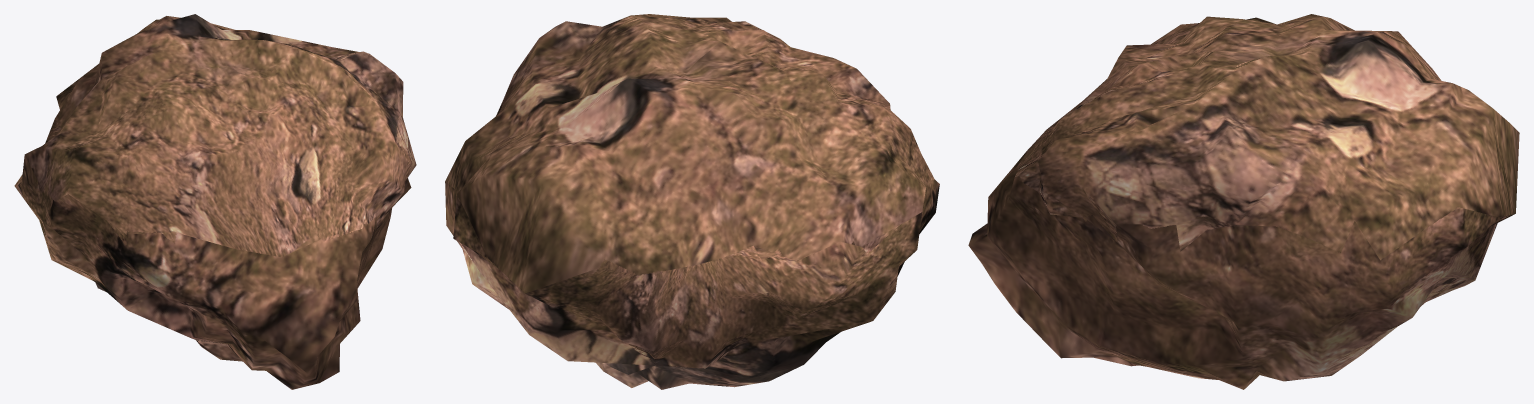
File: rock3.fbx
The picture shows the model from 3 angles, left to right: view 1: azimuth 30°, elevation 25°; view 2: azimuth 150°, elevation 25°; view 3: azimuth 270°, elevation 25°; orthographic projection. The views are drawn at different scales.
Visible parts, largest first — view 1: Rock.003; view 2: Rock.003; view 3: Rock.003.
Part boxes in pixels (x1,y1,x2,y2): Rock.003: (14, 14, 416, 389); Rock.003: (445, 14, 939, 389); Rock.003: (968, 14, 1519, 389).
Bounding box in the file's own units: 307 × 247 × 371.
1 material, 1 textured.
